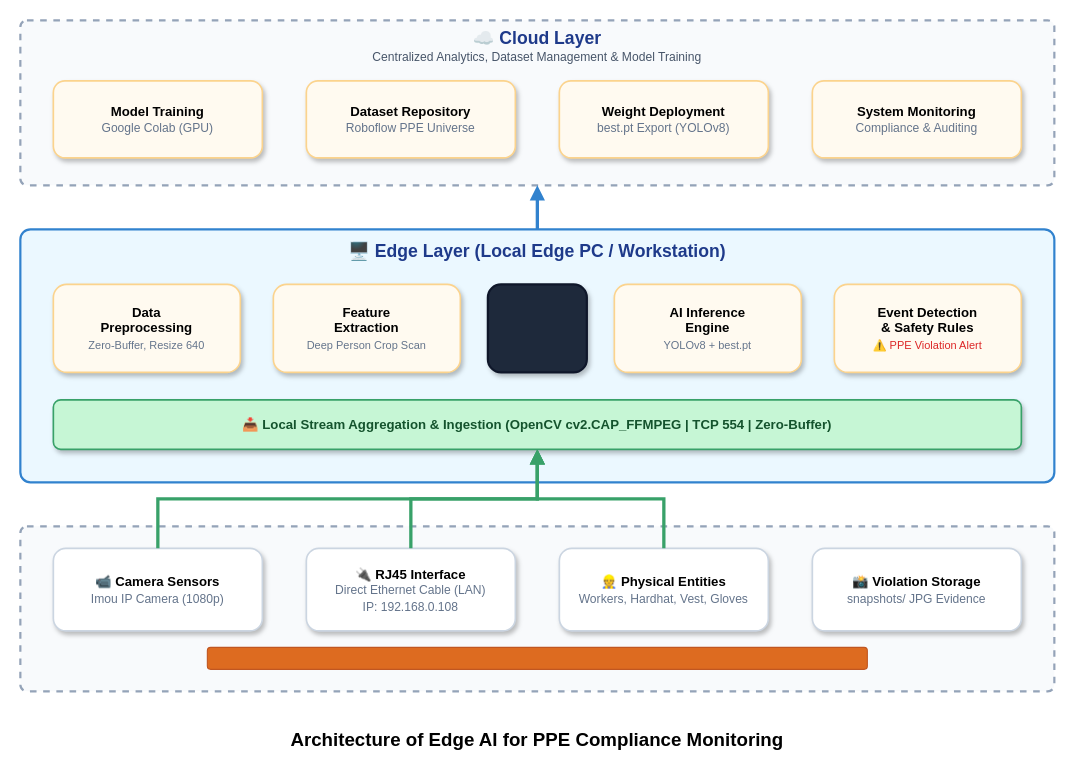
The diagram is 1074 pixels wide and 776 high, and some of its shapes have lost their labels. The centre of each missing label's shape, as x and y in pixels:
Edge PC Gateway Python App: point 538,329
Sensor Layer Data Collection: point 536,657
